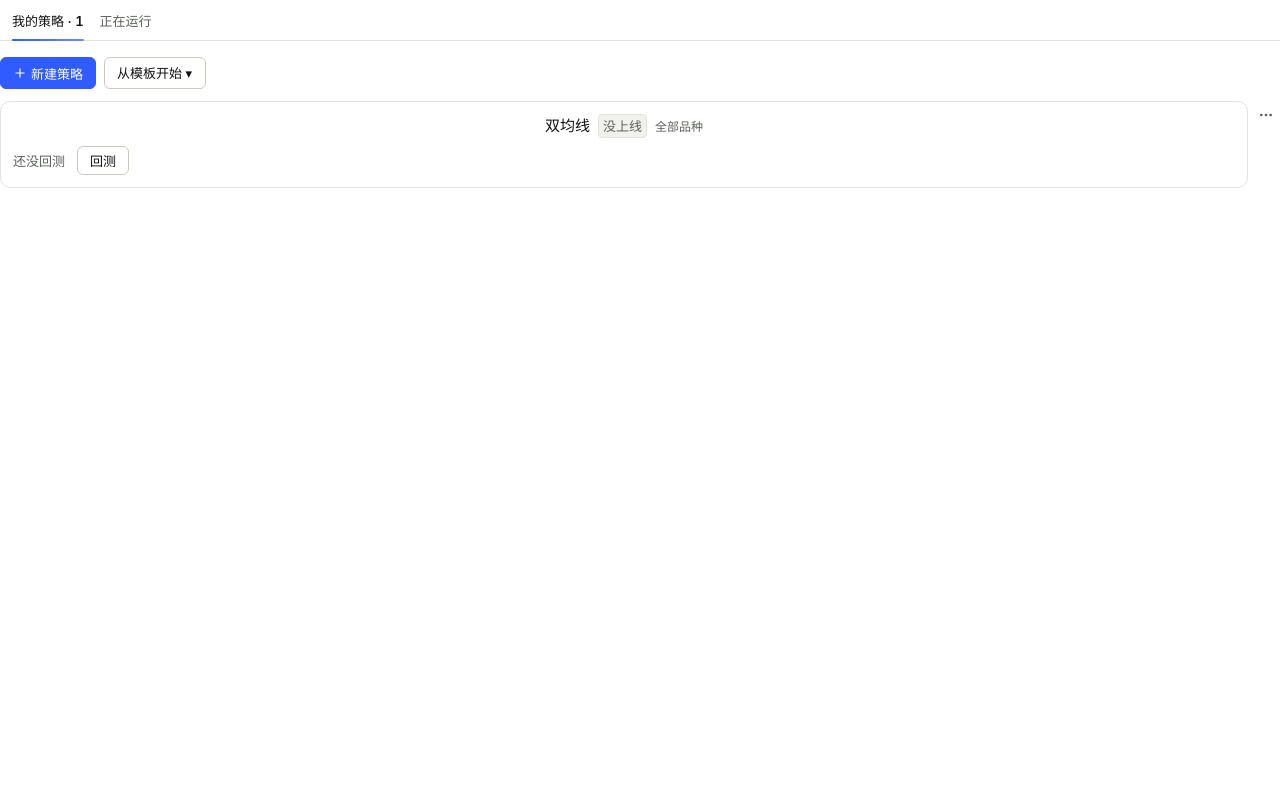
Scenario: 回测失败如实显示原因
This screenshot has width=1280, height=800.
Click the button with aria-label "双均线 · ": point(624, 126) [13,114,1235,138]
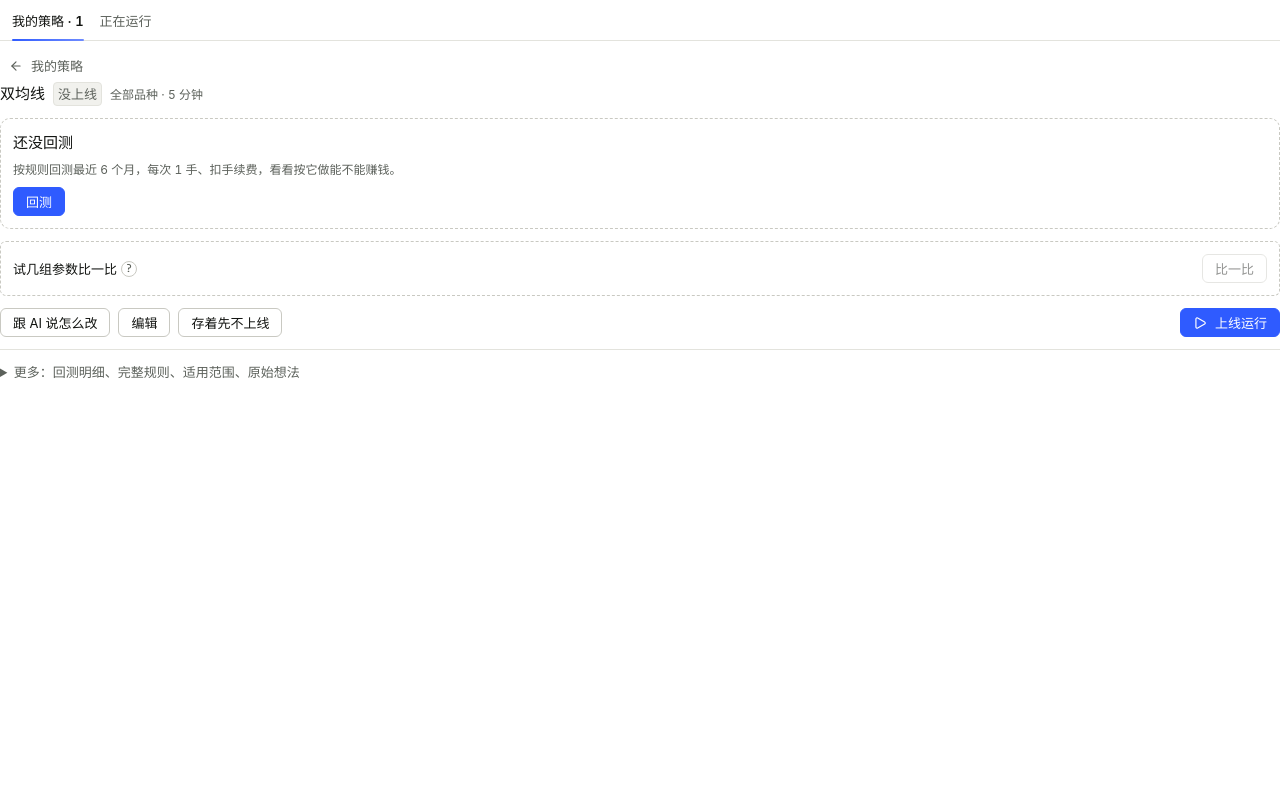
Click the button "回测": point(39, 202) [13,187,65,216]
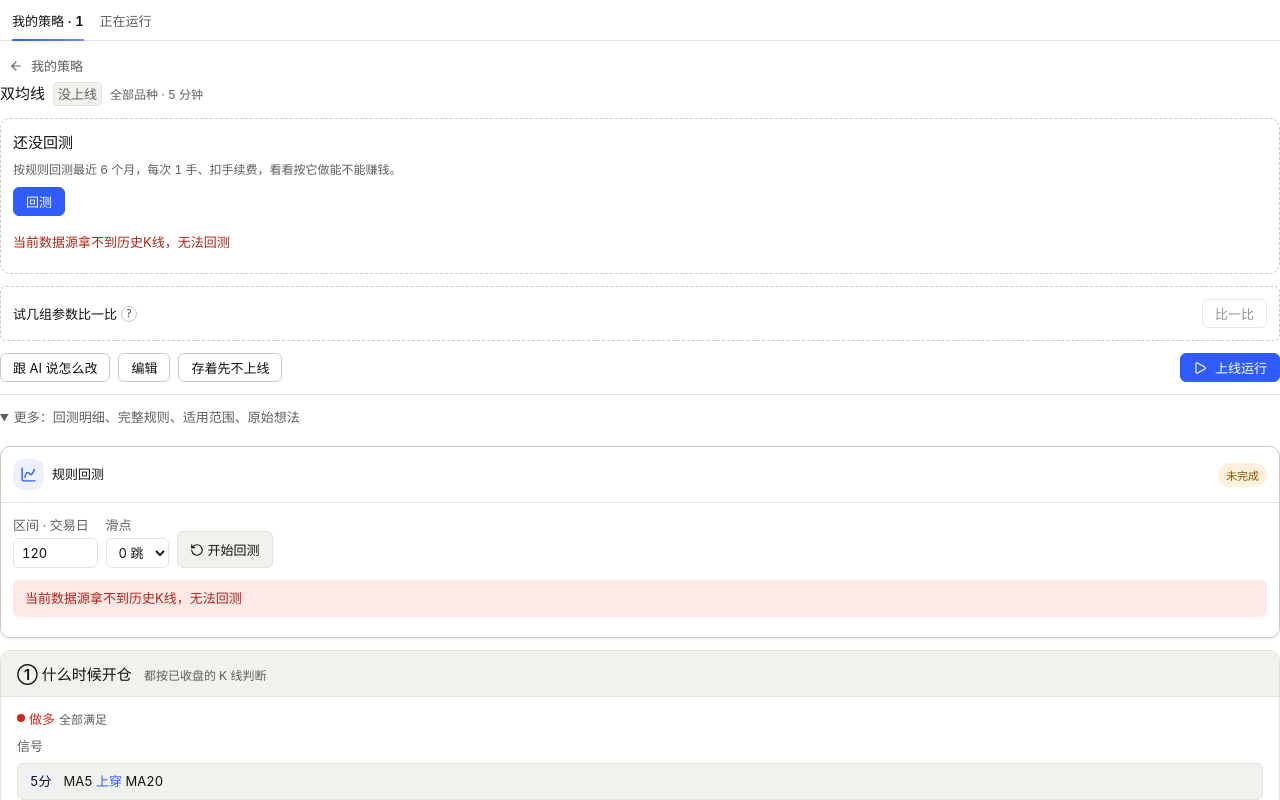
Check: the message "当前数据源拿不到历史K线，无法回测" below "按规则回测最近 6 个月，每次" is shown, box [13,234,230,250]
